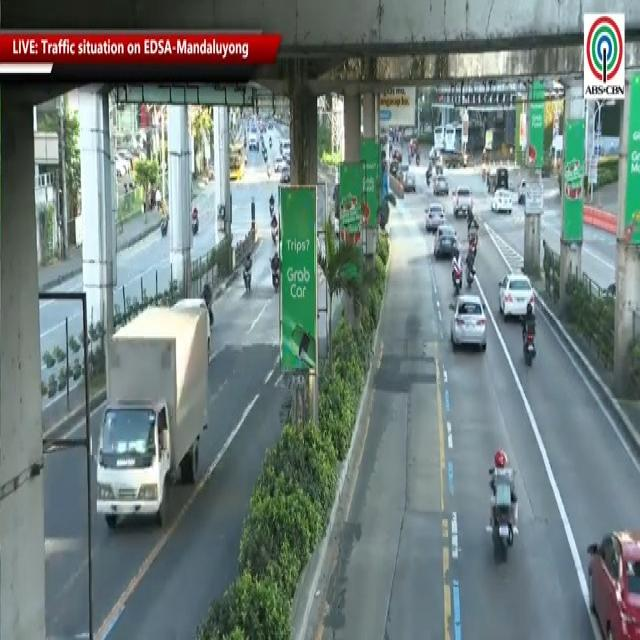car: (585, 515, 640, 640), (451, 300, 486, 354), (502, 265, 532, 320), (430, 220, 462, 265), (453, 182, 474, 214), (423, 199, 444, 231)
motorbike: (474, 437, 525, 584), (516, 297, 541, 385), (230, 244, 257, 301), (452, 246, 466, 301)
truck: (81, 295, 219, 543)
